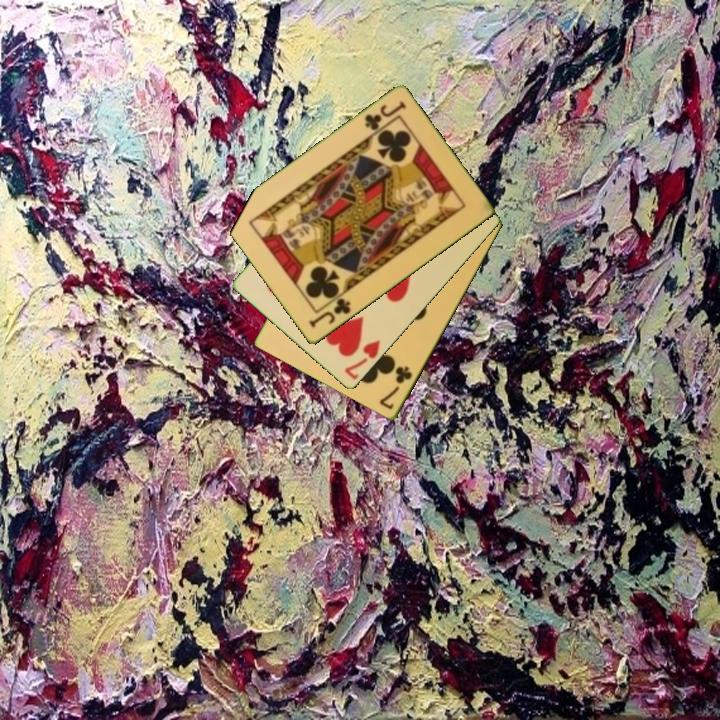7c: (376, 363, 415, 413)
7h: (341, 337, 383, 383)
Jc: (305, 295, 354, 331), (361, 98, 409, 134)
